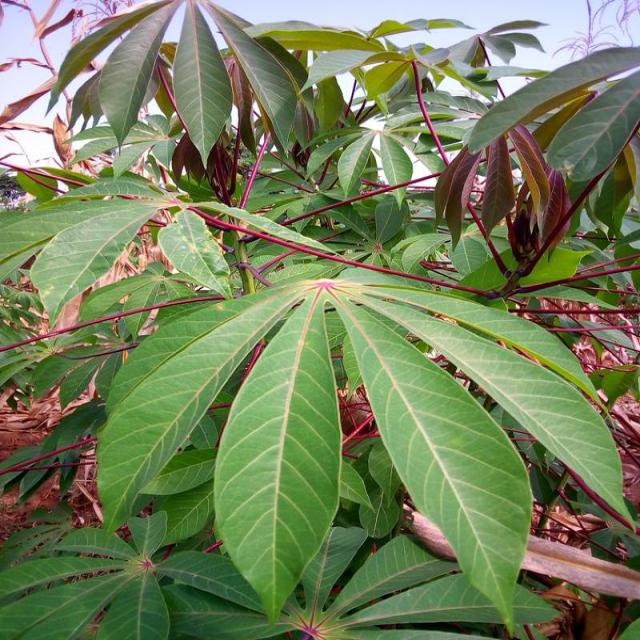cassava leaf: (2, 1, 638, 636), (333, 284, 536, 631), (213, 285, 343, 625)
